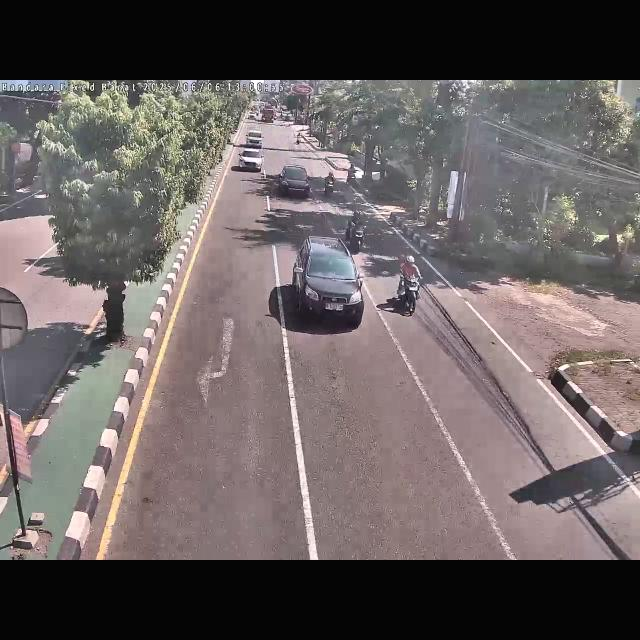Mobil: (294, 236, 366, 326), (238, 146, 264, 172)
Motor: (393, 253, 427, 323), (278, 161, 310, 201), (347, 204, 369, 250), (320, 170, 338, 202)
